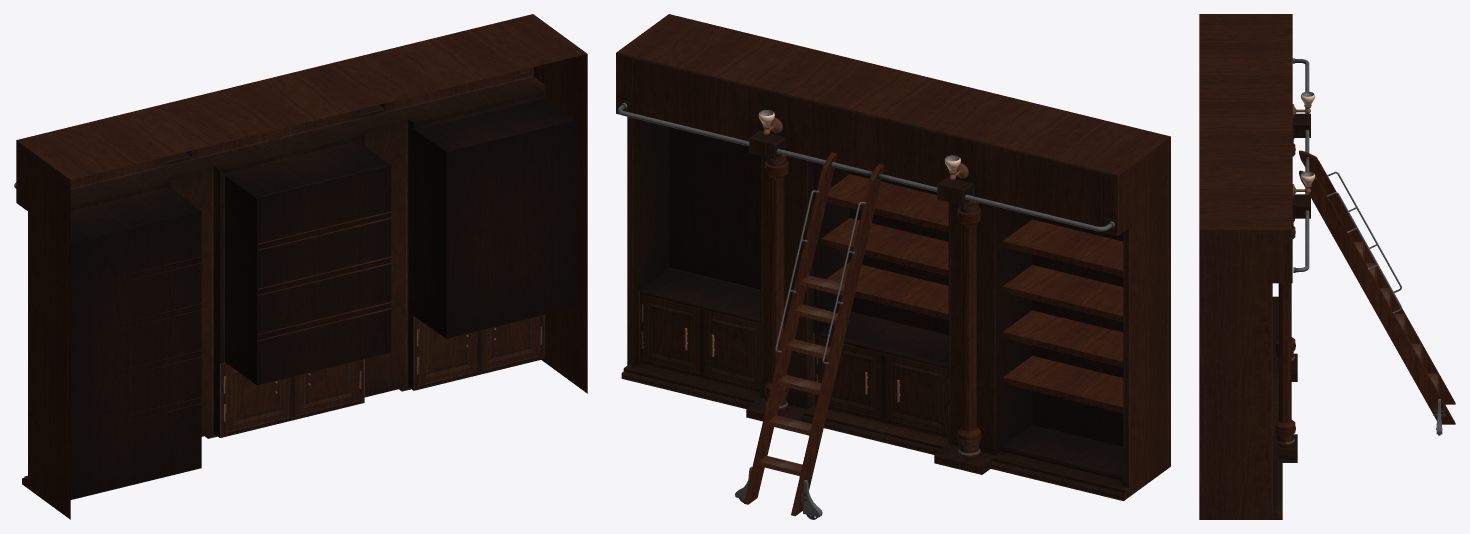
The model's file is cupboard3.glb.
3 views of the same model, side by side, from view 1: azimuth 30°, elevation 25°; view 2: azimuth 150°, elevation 25°; view 3: azimuth 270°, elevation 25° (orthographic). The views are drawn at different scales.
Visible parts, largest first — view 1: Object_2, Object_3; view 2: Object_2, Object_3; view 3: Object_2, Object_3.
Part boxes in pixels (x1,y1,x2,y2): Object_2: (16, 14, 587, 519); Object_3: (14, 182, 496, 423); Object_2: (616, 14, 1170, 500); Object_3: (617, 102, 1123, 519); Object_2: (1199, 14, 1310, 519); Object_3: (1274, 58, 1455, 447).
Bounding box in the file's own units: 109 × 69.9 × 54.68.
2 materials, 2 textured.
